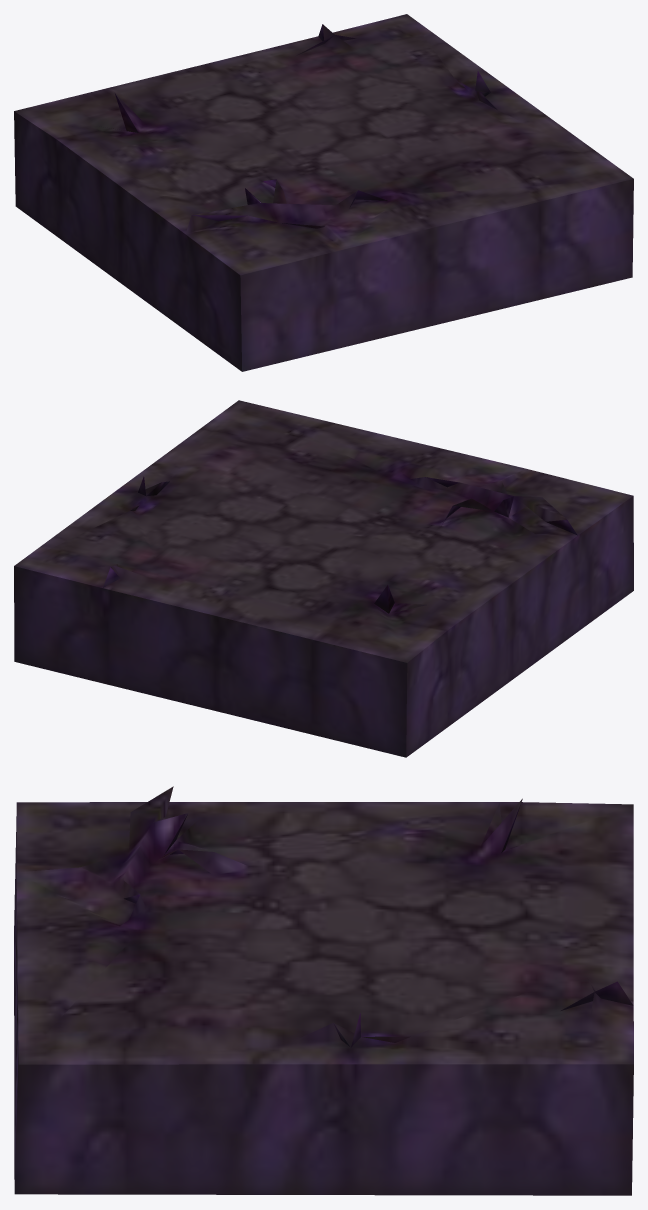
File: b_abimes_sol_2_lo.glb
3 renders of one model, top to bottom at view 1: azimuth 30°, elevation 25°; view 2: azimuth 150°, elevation 25°; view 3: azimuth 270°, elevation 25°, orthographic. The views are drawn at different scales.
Visible parts, largest first — view 1: geometry_0; view 2: geometry_0; view 3: geometry_0.
Boxes of the visible parts, <box> form: geometry_0: <box>14,14,633,371</box>; geometry_0: <box>14,400,633,757</box>; geometry_0: <box>14,786,633,1195</box>.
Bounding box in the file's own units: 0.9938 × 0.3119 × 0.9939.
1 material, 1 textured.
